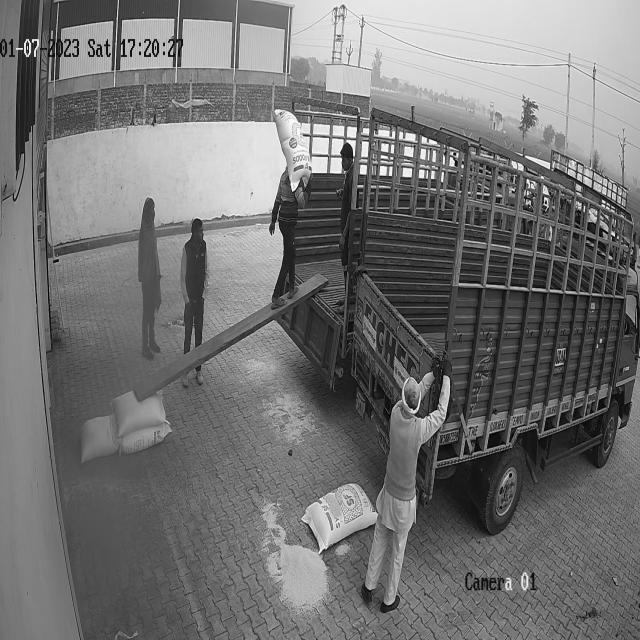sack: (302, 482, 378, 552), (273, 107, 312, 192), (108, 390, 166, 438), (79, 413, 118, 465), (119, 424, 171, 454)
